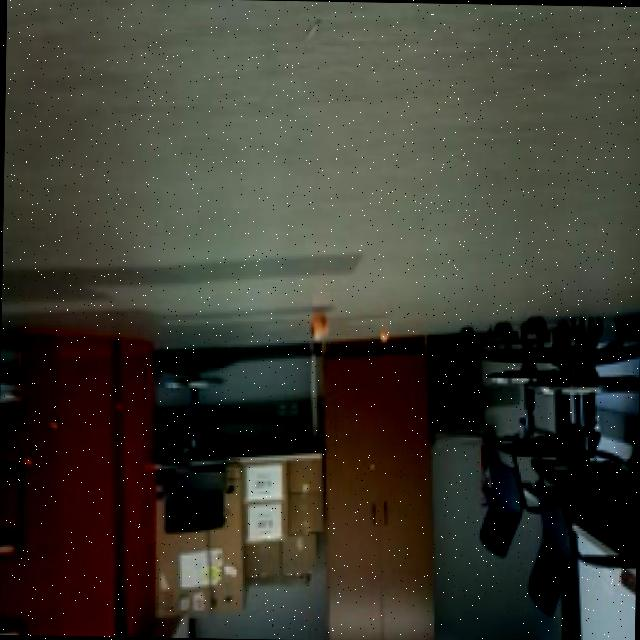ping-pong-ball: (302, 304, 334, 341), (372, 322, 393, 346)
